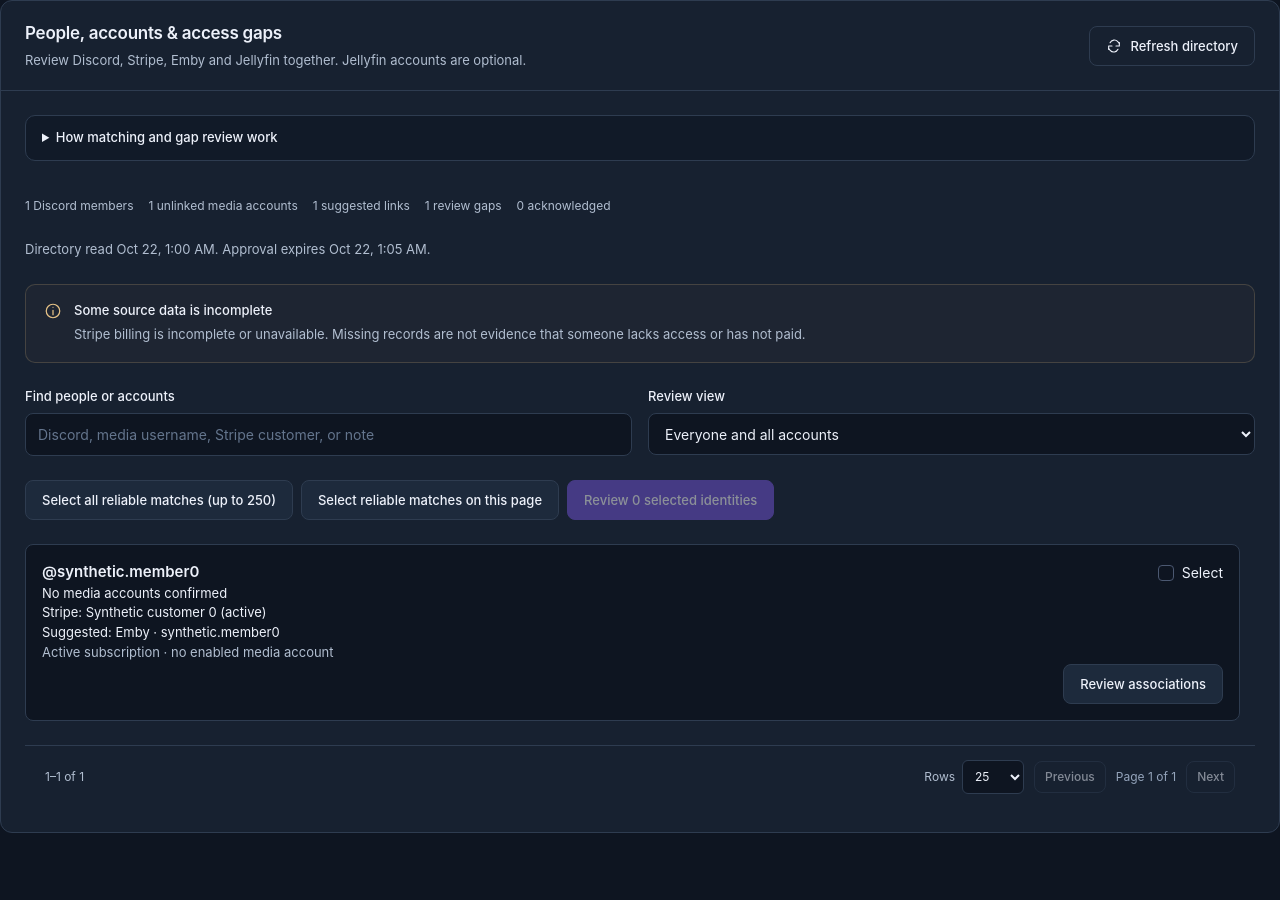
Test: reviewed identity matching and access gaps › warns about incomplete data and keeps saved links distinct from failed role updates
The width and height of the screenshot is (1280, 900).
Expected: the text "Missing records are not evidence" is shown, [154,326,806,342]
Click the button "Review associations" at (1143, 684), box [1063,664,1223,704]
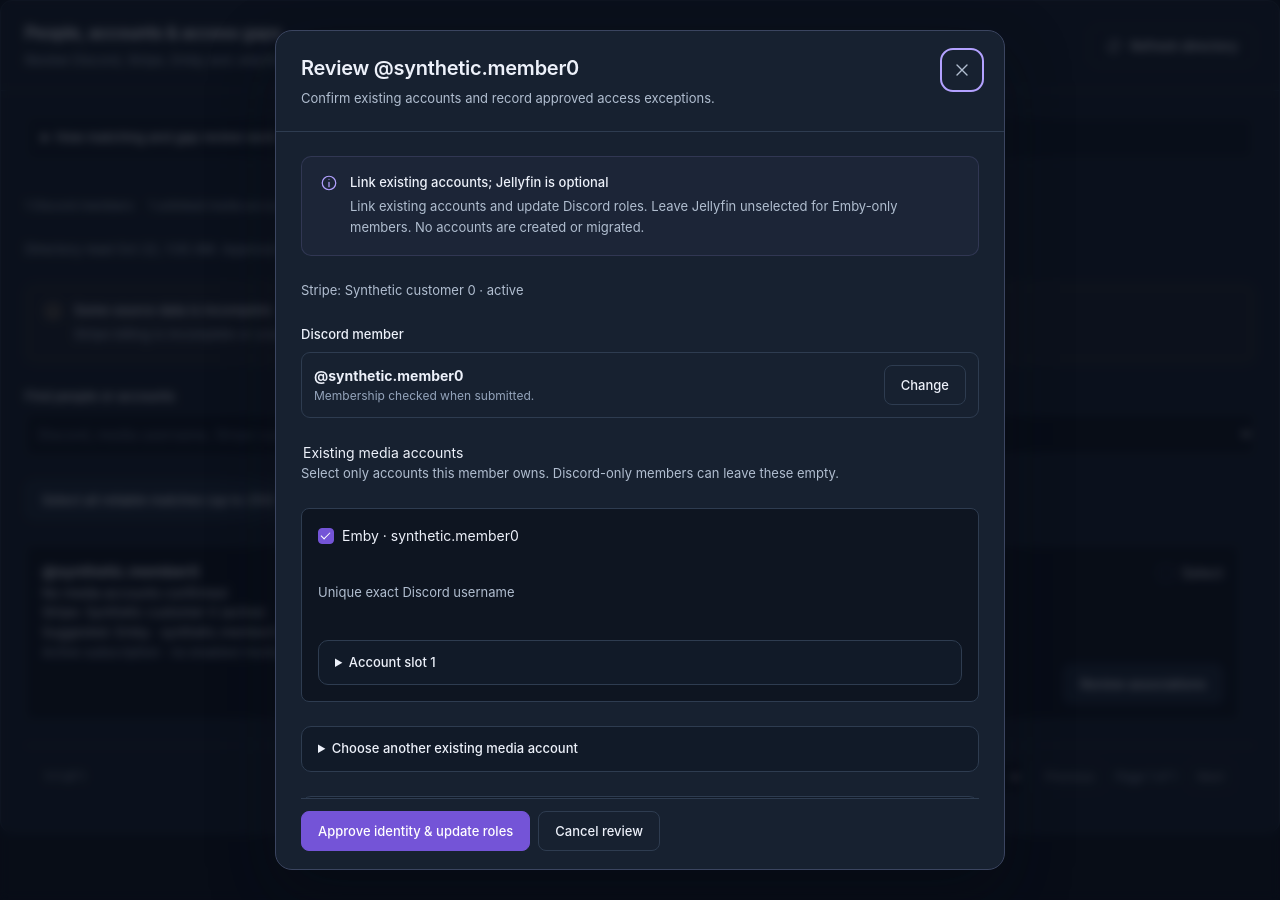
Click the button "Approve identity & update roles" at (416, 831), box [301,811,530,851]
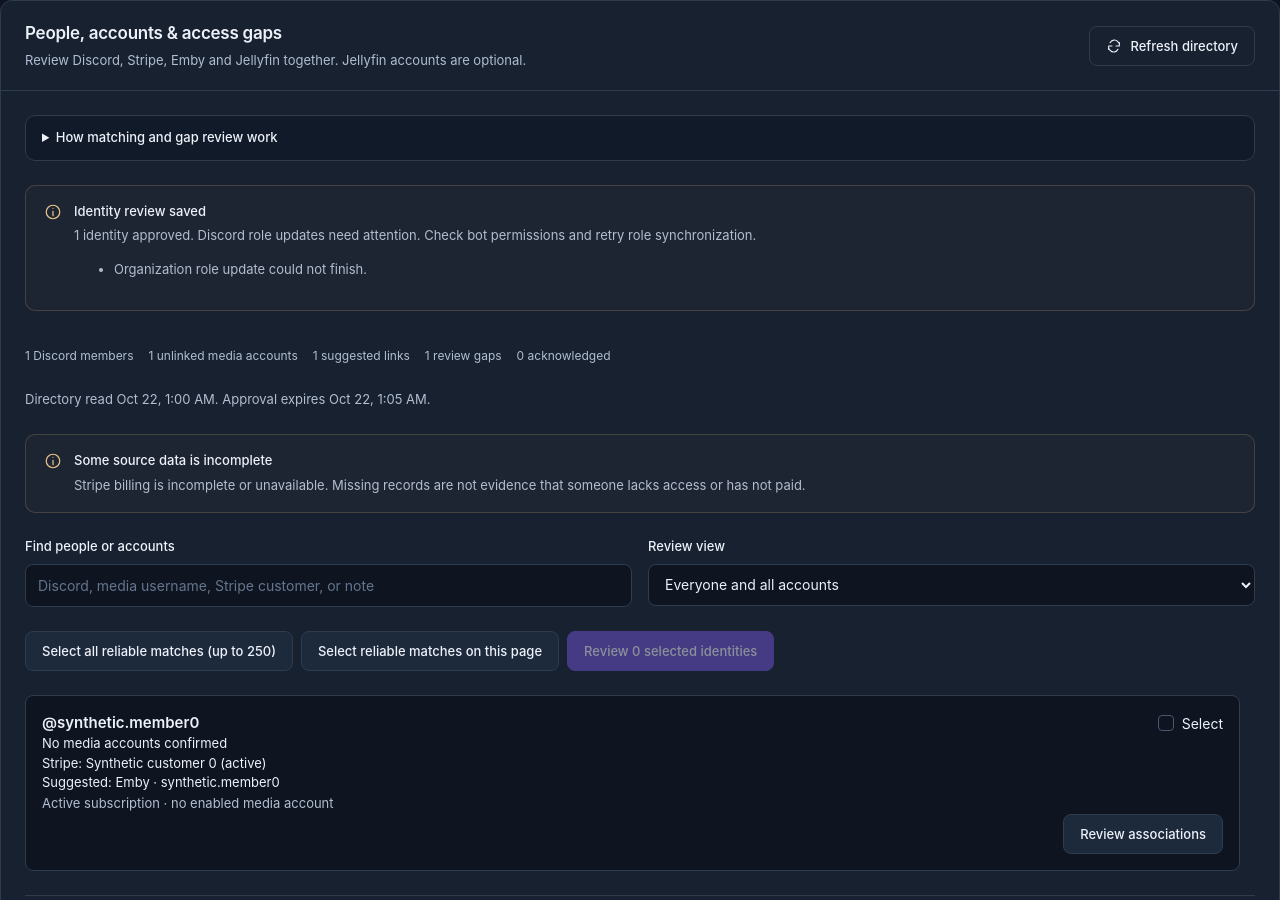
Result: the list item "Organization role update could not finish." is shown at [114,261,367,277]
